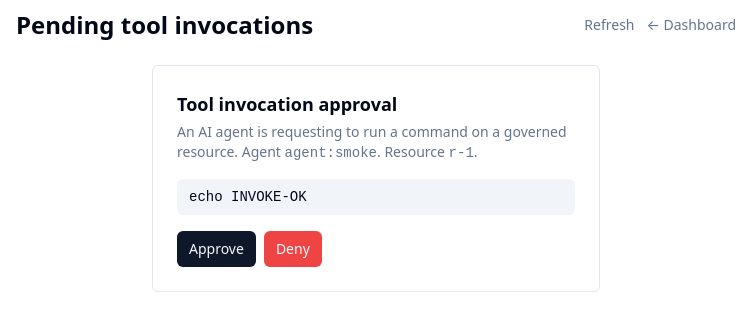
Test: Invocations route › denies an invocation via POST /v1/invocations/{id}/resolve and refetches
Click the button "Deny" at (293, 249), box [264,231,322,267]
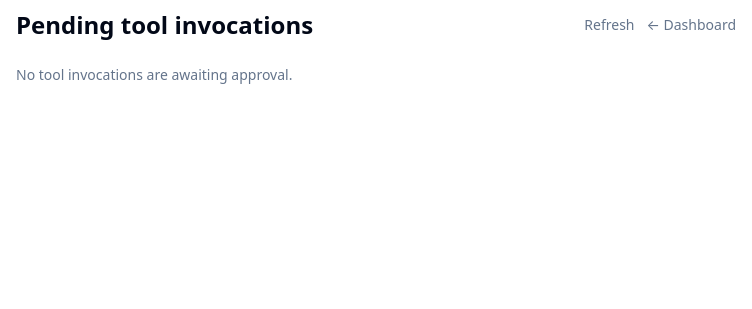
Expected: the text "No tool invocations are awaiting approval." is shown, [16,65,292,84]
